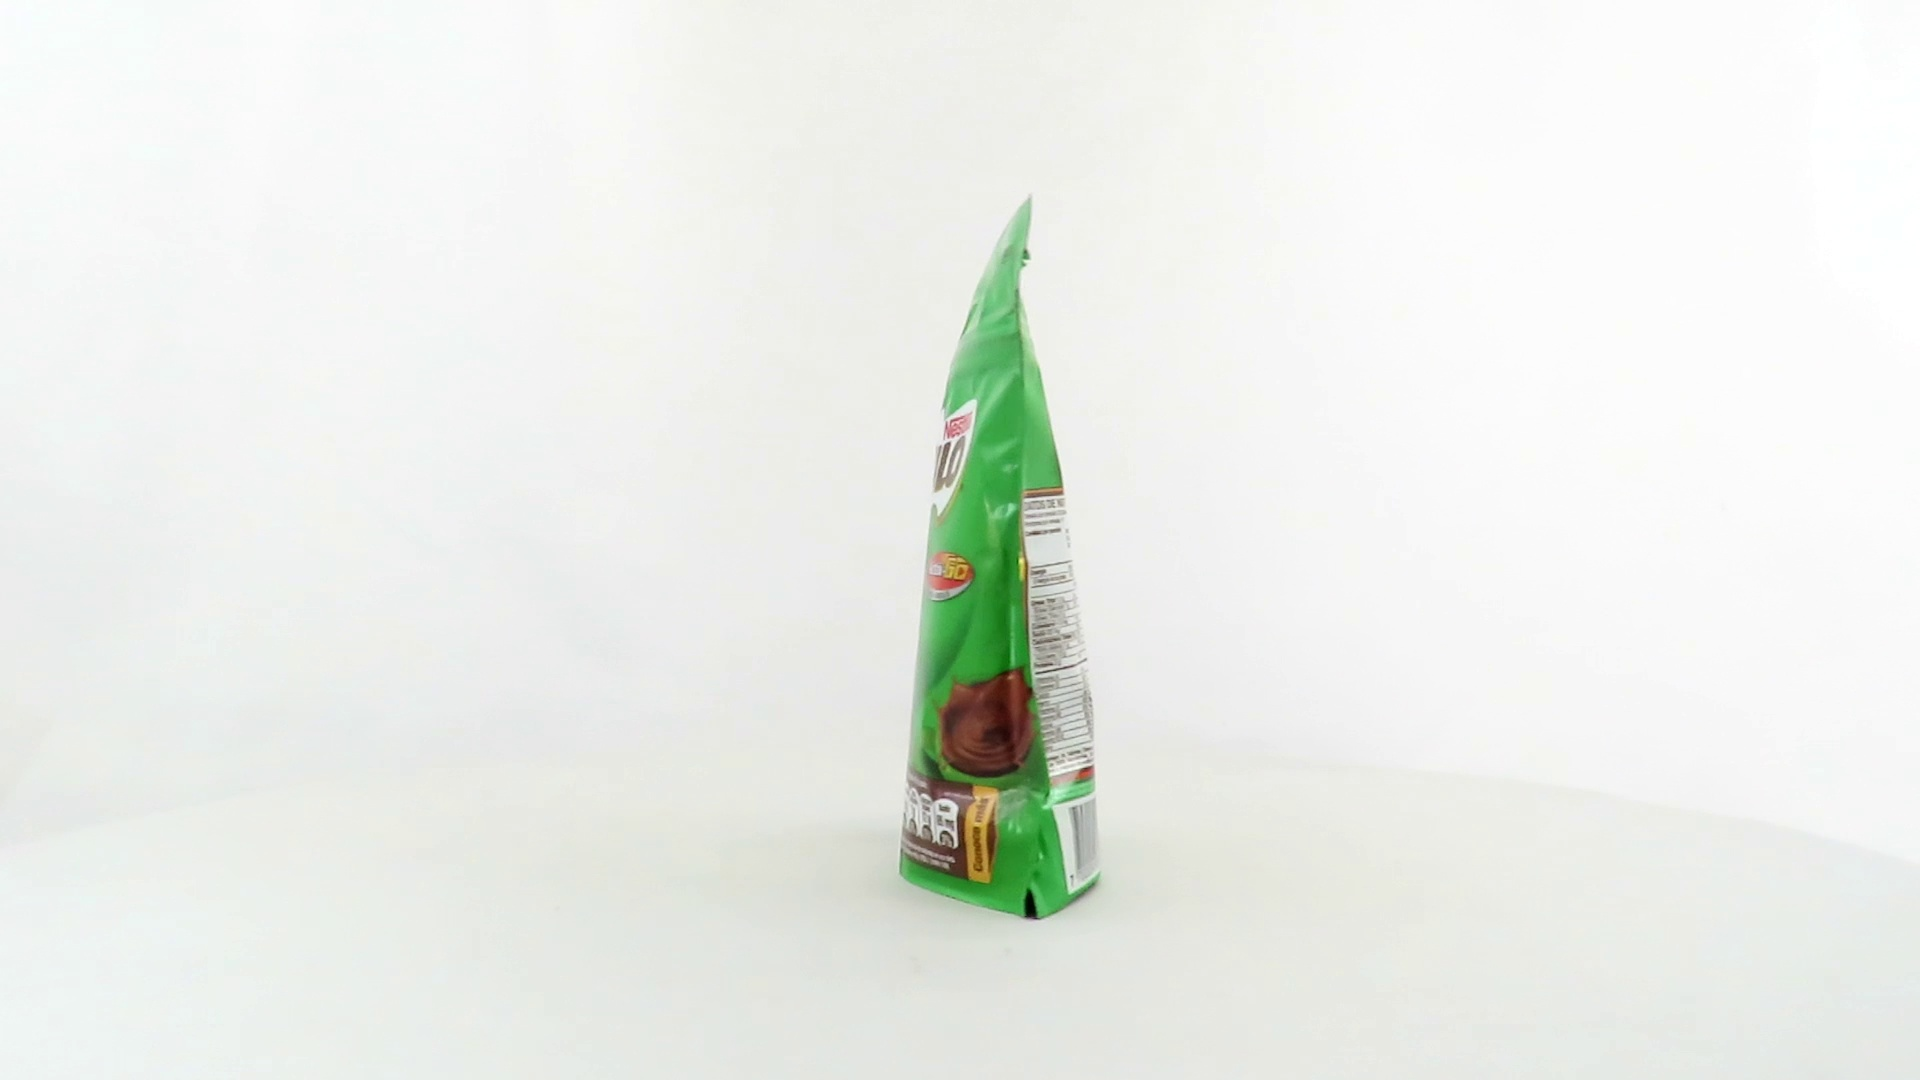COL0170203DYP10000: (894, 189, 1106, 926)
